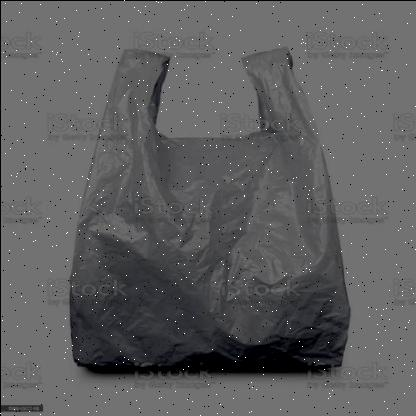Others: (67, 46, 351, 368)
